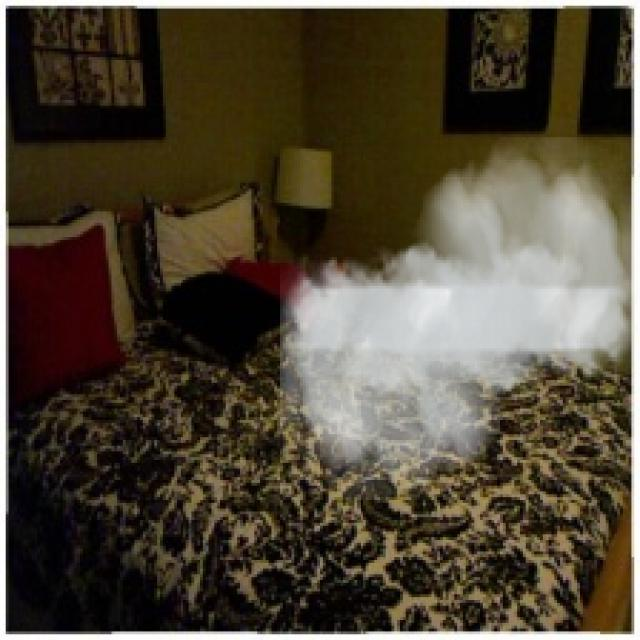smoke: (280, 137, 637, 503)
